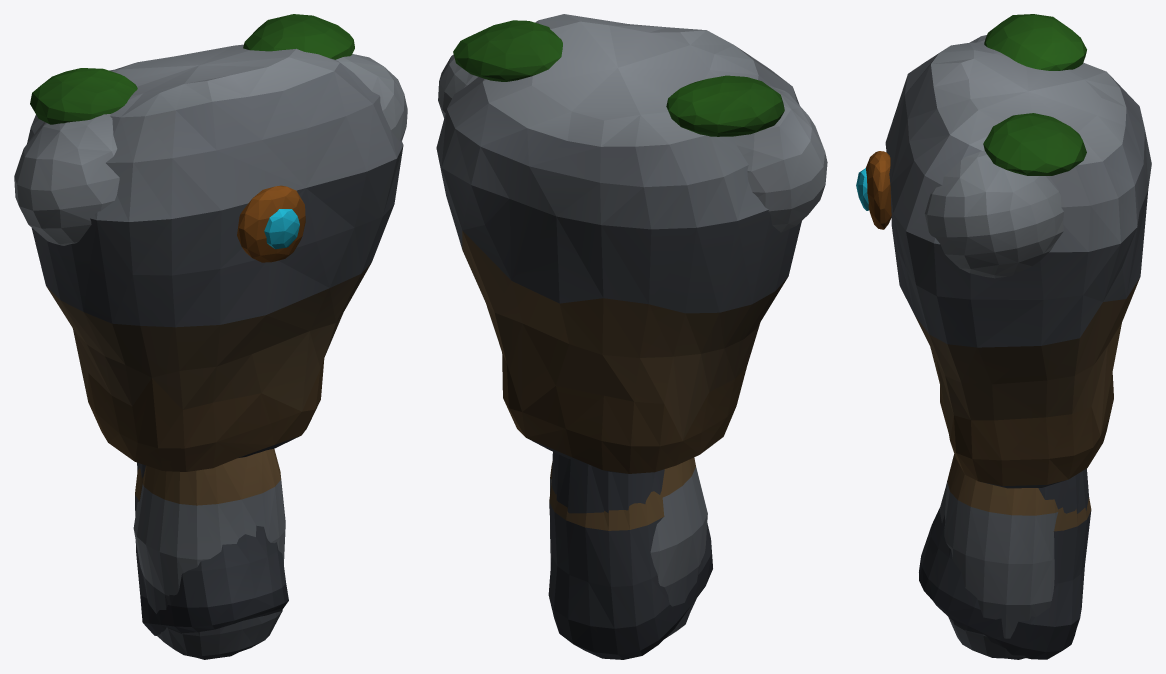
The model's file is creature_ancient_golem.glb.
3 renders of one model, left to right at view 1: azimuth 30°, elevation 25°; view 2: azimuth 150°, elevation 25°; view 3: azimuth 270°, elevation 25°, orthographic. The views are drawn at different scales.
Visible parts, largest first — view 1: Golem_Torso, Golem_ArmLower_L, Golem_LegLower_L; view 2: Golem_Torso, Golem_LegLower_L, Golem_ArmLower_L, Golem_LegUpper_L; view 3: Golem_Torso, Golem_ArmLower_L, Golem_LegLower_L, Golem_LegUpper_L.
Boxes of the visible parts, x1,y1,x2,y2 form: Golem_Torso: (14, 14, 407, 471); Golem_ArmLower_L: (133, 449, 285, 659); Golem_LegLower_L: (135, 468, 288, 635); Golem_Torso: (436, 14, 827, 473); Golem_LegLower_L: (548, 480, 712, 659); Golem_ArmLower_L: (550, 457, 707, 638); Golem_LegUpper_L: (551, 452, 664, 513); Golem_Torso: (856, 14, 1151, 488); Golem_ArmLower_L: (939, 454, 1058, 659); Golem_LegLower_L: (919, 497, 1091, 659); Golem_LegUpper_L: (1038, 468, 1088, 513).
Size of the model in its own units: 0.7356 by 1.12 by 0.5259.
